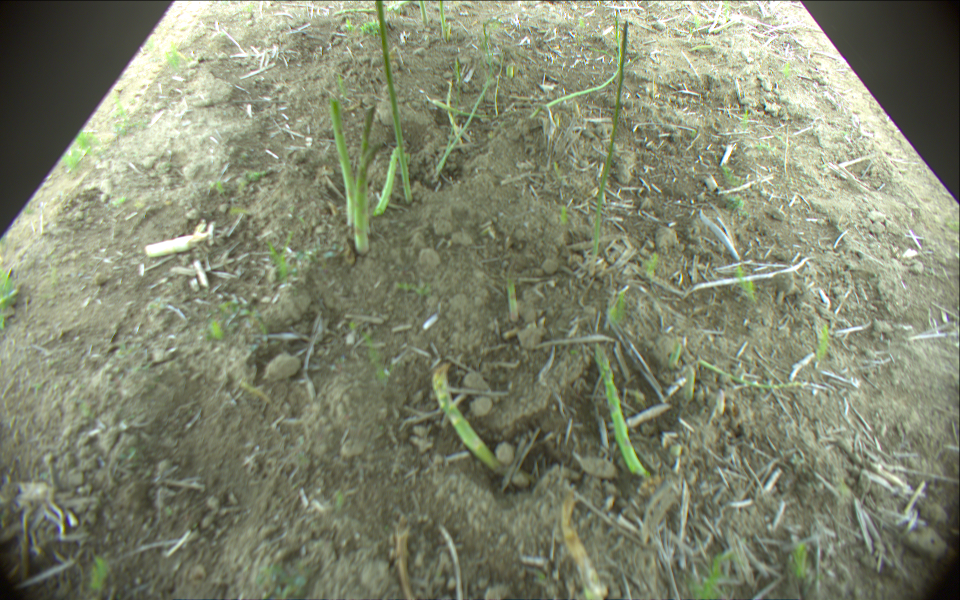aspa: (590, 22, 631, 274), (431, 363, 514, 484), (433, 23, 491, 181), (373, 1, 413, 203), (545, 14, 622, 109), (595, 344, 649, 477), (697, 358, 833, 387), (354, 143, 386, 255), (329, 102, 355, 226), (372, 143, 400, 215), (356, 105, 378, 190), (425, 97, 492, 119), (329, 6, 391, 16), (668, 336, 683, 368), (438, 1, 448, 42), (685, 366, 694, 397), (418, 1, 429, 25)
